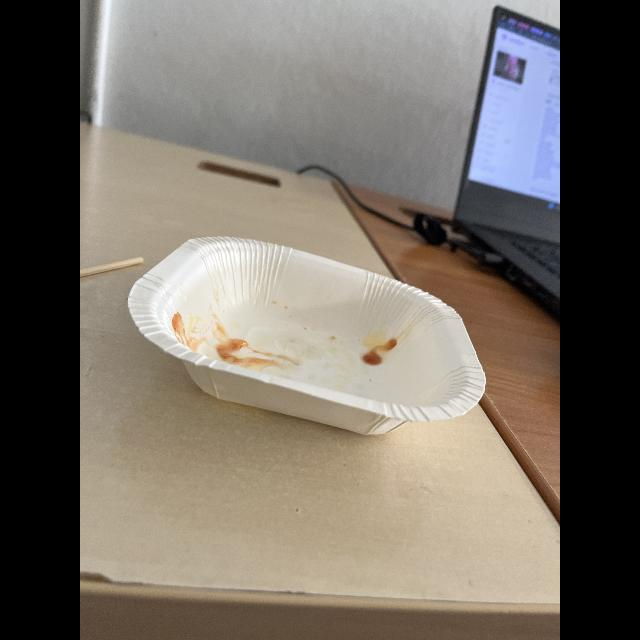cardboard_bowl: (131, 231, 497, 443)
stick: (80, 251, 152, 279)
